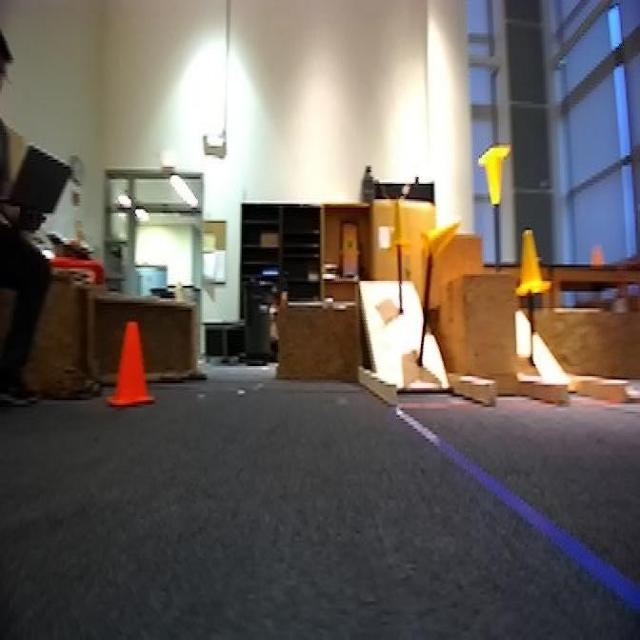frc_cone: (513, 235, 548, 296), (482, 140, 514, 206), (419, 221, 461, 269), (384, 198, 410, 254)
